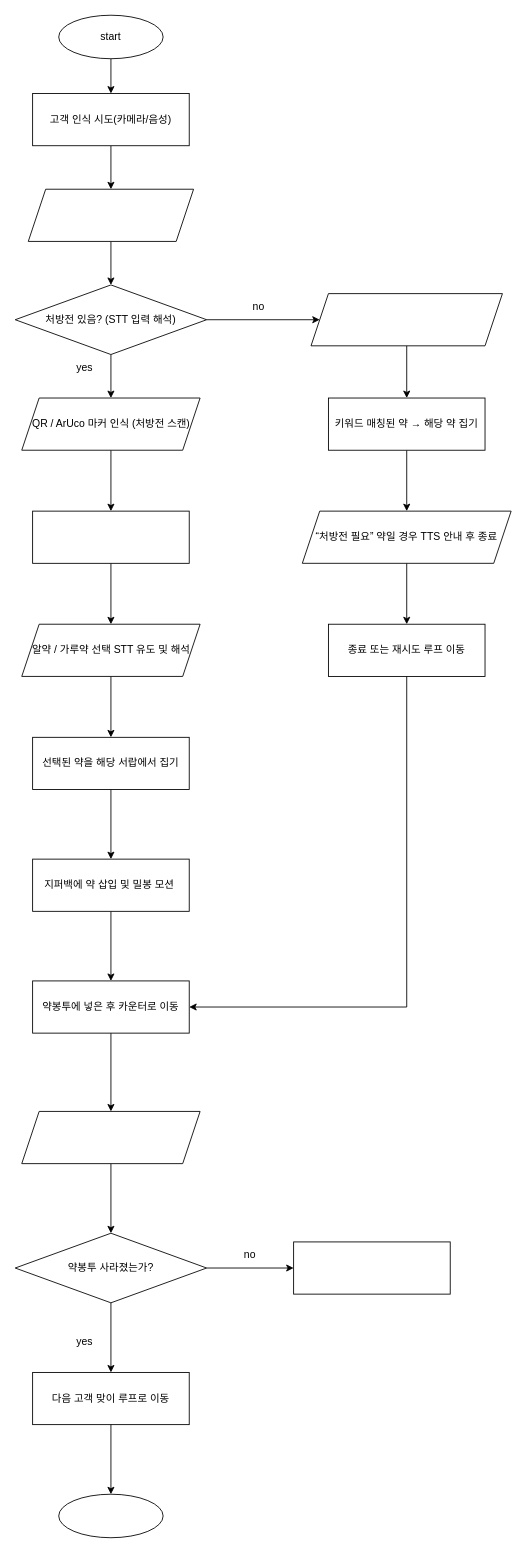
The diagram is 526 pixels wide and 1553 high, and some of its shapes have lost their labels. The shapes that lost their labels are listed below. From the top down, each one's box as (x1, y1, x2, y2) in pixels, then its label:
(27, 188, 194, 241): TTS로 인사 및 처방전 여부 질문
(310, 293, 502, 346): STT로 직접 약 이름 또는 키워드 감지
(32, 510, 189, 563): 처방전 파싱 → 약 이름, 제형, 수량
(21, 1111, 200, 1164): 카운터 위 봉투 존재 여부 확인
(293, 1241, 450, 1294): 카운터 모니터링 계속 대기
(58, 1493, 163, 1538): End
